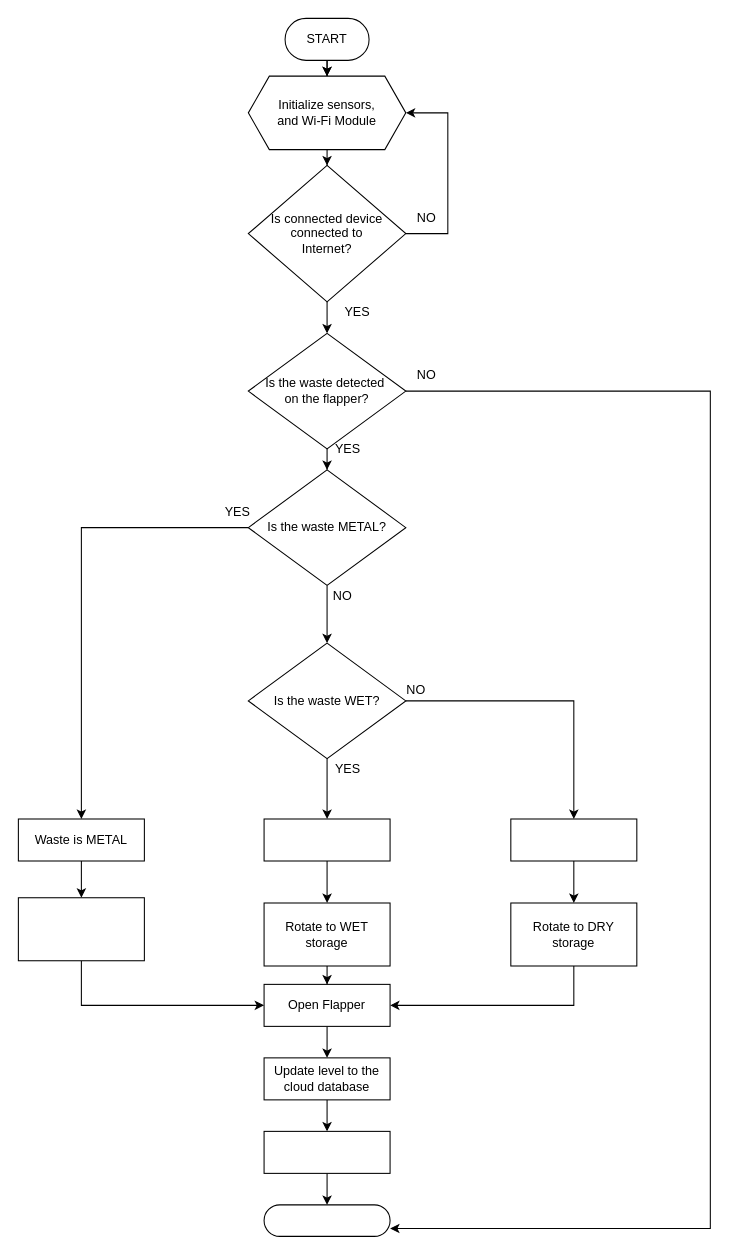
Image size: 737x1256. Some labels were removed from this diagram. The shapes that lost their labels are listed below. From the top down, each one's centre as x and y in pixels, then its label:
the point at 326,839: Waste is WET
the point at 573,839: Waste is DRY
the point at 80,929: Rotate to METAL storage
the point at 326,1151: Close Flapper
the point at 326,1220: END
